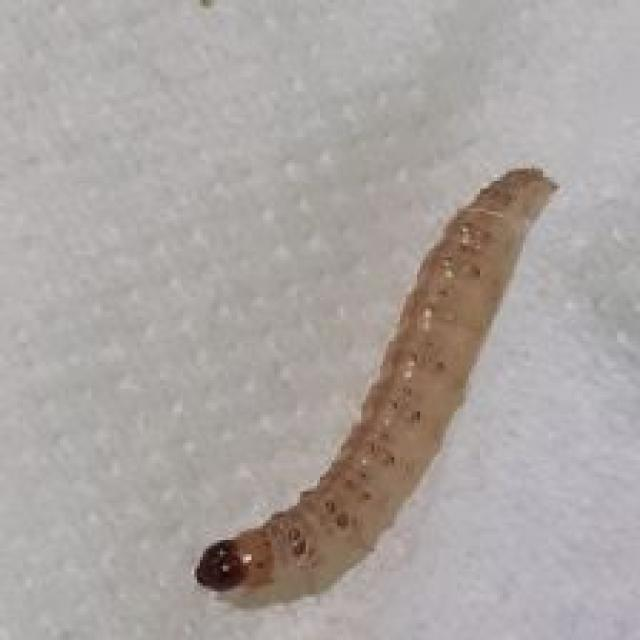white mucus: (175, 150, 575, 611)
